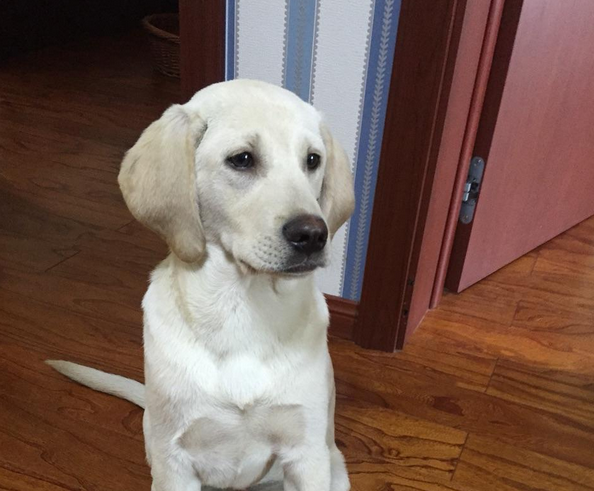nose: (282, 219, 329, 254)
